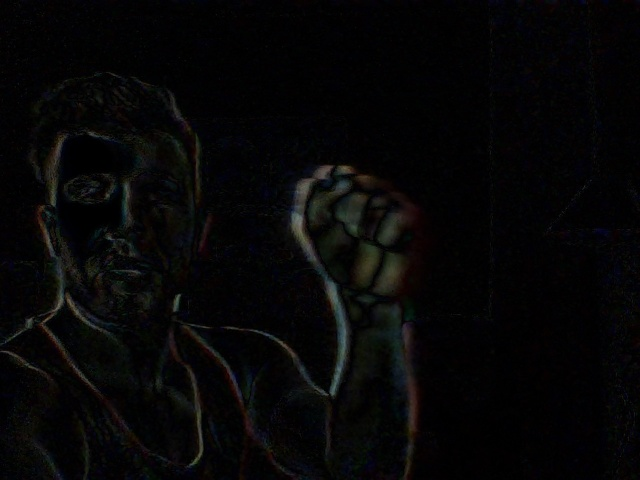hand_fi: (283, 144, 427, 302)
